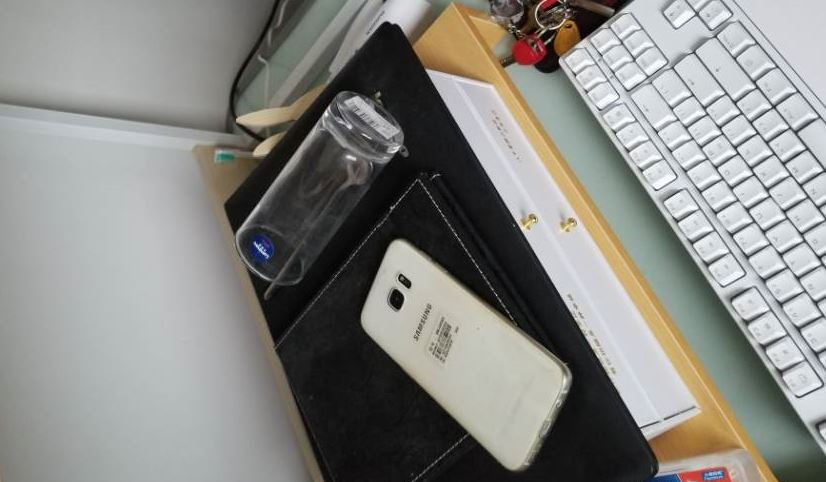mobil: (356, 234, 574, 474)
